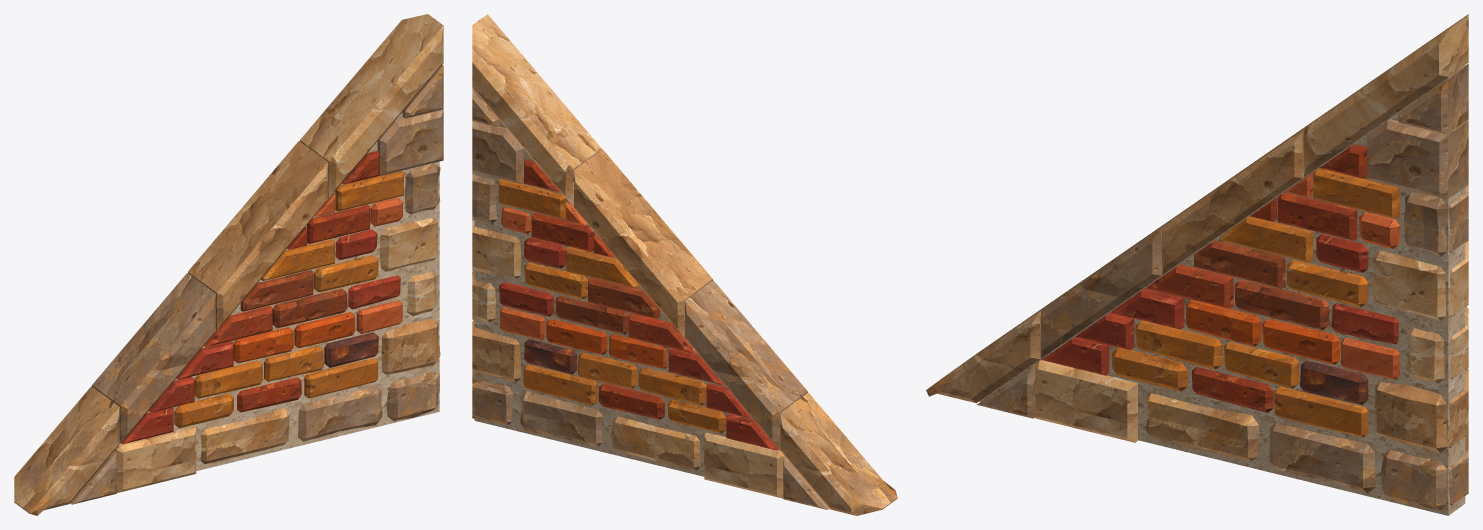
The model's file is sloped_wall__clay_brick.glb.
3 renders of one model, left to right at view 1: azimuth 30°, elevation 25°; view 2: azimuth 150°, elevation 25°; view 3: azimuth 330°, elevation 25°, orthographic. The views are drawn at different scales.
Visible parts, largest first — view 1: model; view 2: model; view 3: model.
Part boxes in pixels (box(x1,y1,x2,y2)): model: box(14, 14, 443, 515); model: box(472, 14, 897, 515); model: box(926, 14, 1468, 515).
Size of the model in its own units: 1.99 by 1.79 by 0.2869.
13 materials, 13 textured.
